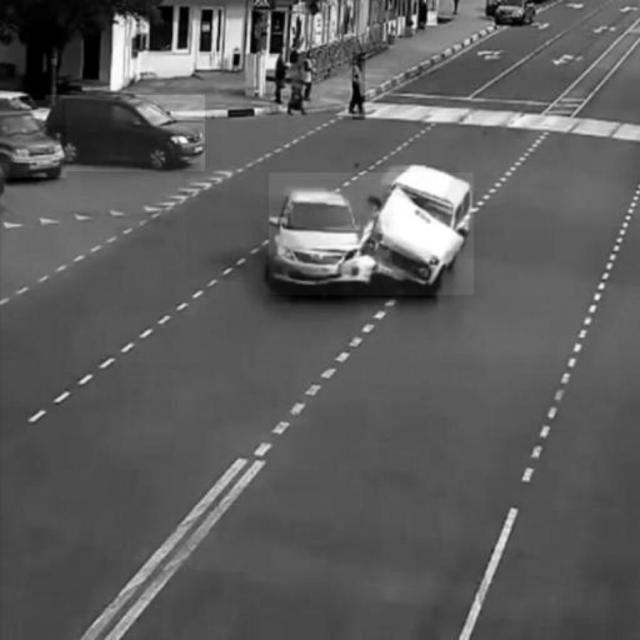accident: (270, 173, 475, 295)
person: (352, 53, 366, 120)
vehicle: (45, 95, 205, 171), (1, 100, 67, 177)
